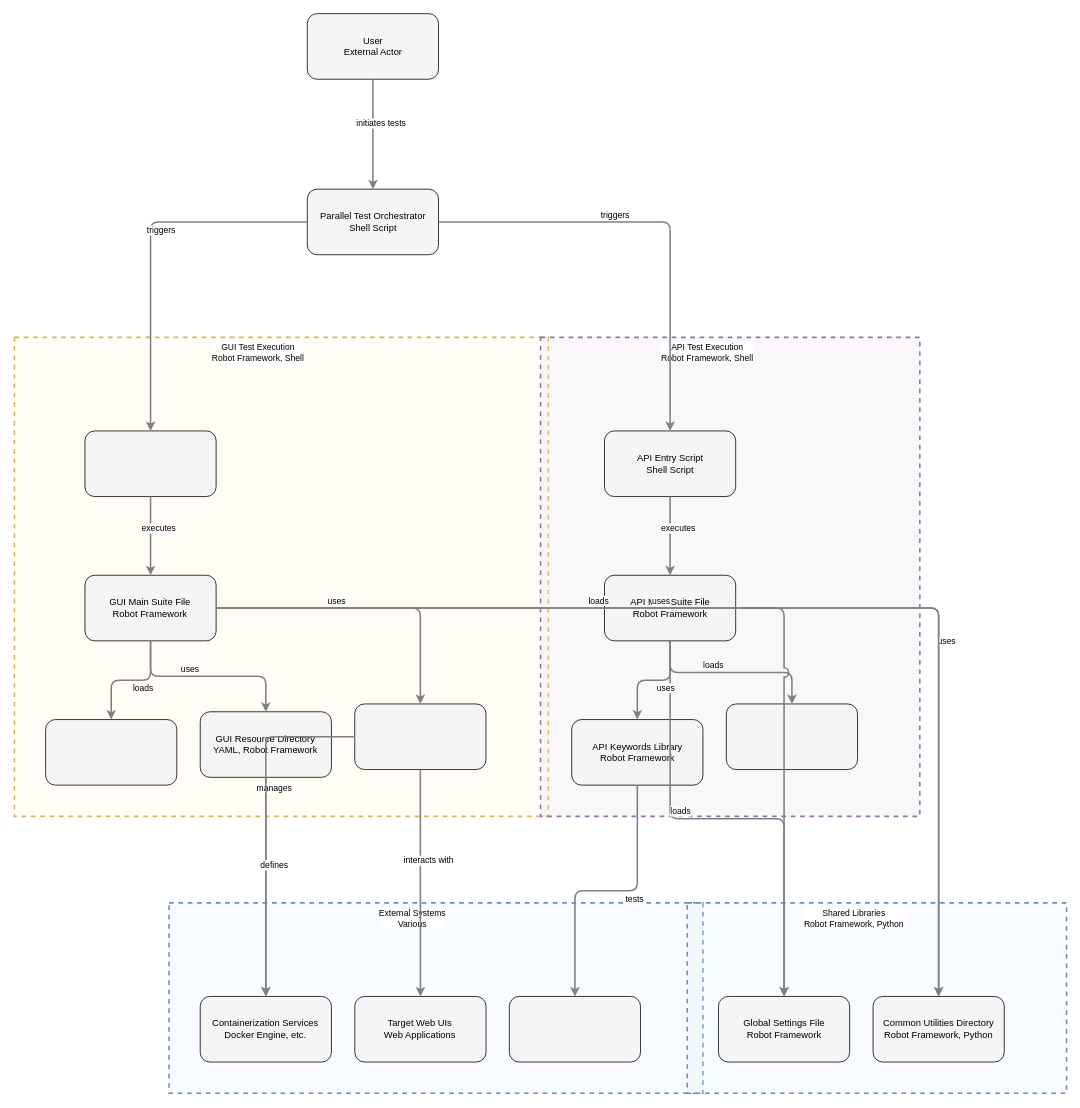
The diagram is 1080 pixels wide and 1108 high, and some of its shapes have lost their labels. Each missing label, with the centre of its shape:
"API Config File Robot Framework" belongs at point (792, 736).
"GUI Config File Robot Framework" belongs at point (111, 752).
"GUI Entry Script Shell Script" belongs at point (150, 463).
"GUI Keywords Library Robot Framework" belongs at point (420, 736).
"Target APIs Web Services" belongs at point (575, 1029).
